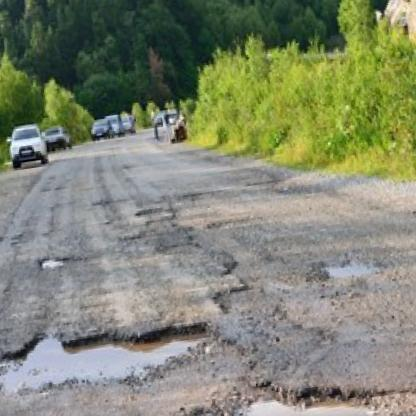pothole: (0, 312, 218, 405), (193, 362, 386, 416), (38, 253, 68, 273)
